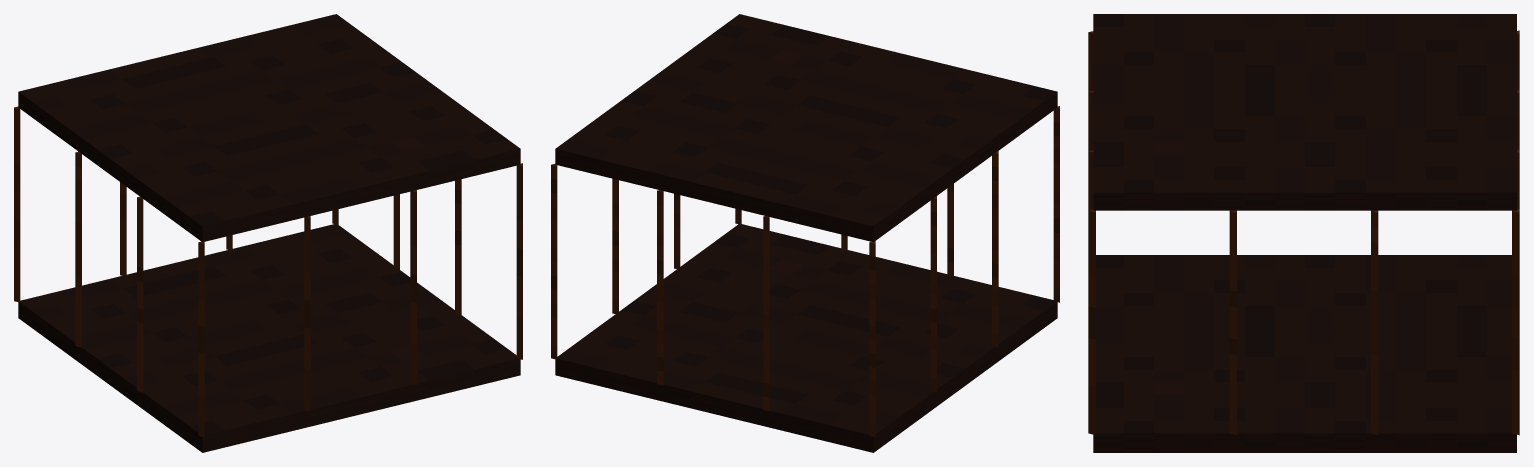
File: jaula_prisioneros.glb
The picture shows the model from 3 angles, left to right: view 1: azimuth 30°, elevation 25°; view 2: azimuth 150°, elevation 25°; view 3: azimuth 270°, elevation 25°; orthographic projection. The views are drawn at different scales.
Parts seen in each view (by area): view 1: techo, base, barrotes; view 2: techo, base, barrotes; view 3: techo, base, barrotes.
Part boxes in pixels (left/top/right/bottom): techo: left=18, top=14, right=520, bottom=242; base: left=18, top=224, right=520, bottom=452; barrotes: left=14, top=106, right=522, bottom=437; techo: left=555, top=14, right=1057, bottom=242; base: left=555, top=224, right=1057, bottom=452; barrotes: left=551, top=106, right=1059, bottom=437; techo: left=1093, top=14, right=1516, bottom=210; base: left=1093, top=255, right=1516, bottom=452; barrotes: left=1088, top=30, right=1519, bottom=435.
Bounding box in the file's own units: 3 × 2 × 3.
1 material, 1 textured.
